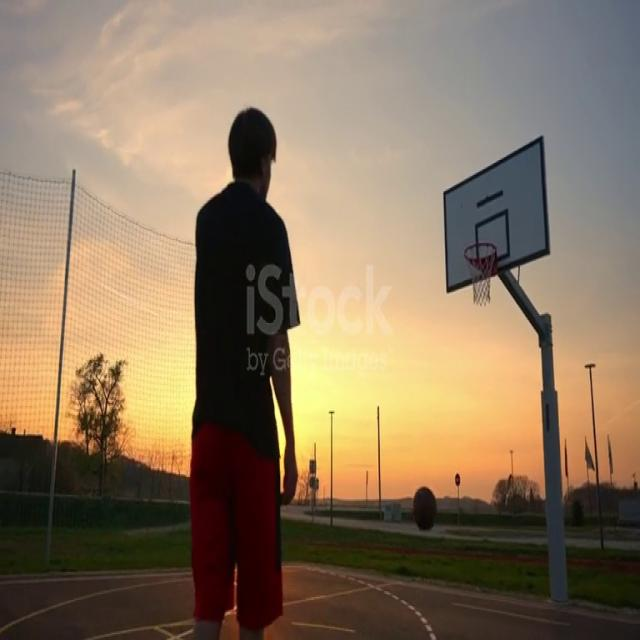ball: (412, 486, 438, 532)
